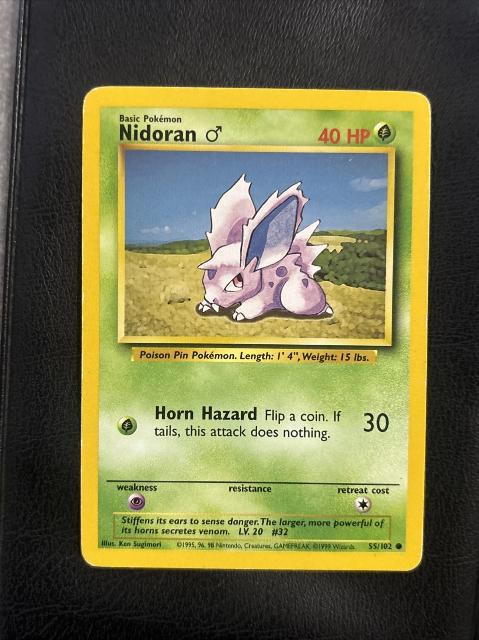Card: (74, 80, 435, 578)
Name: (113, 122, 229, 145)
